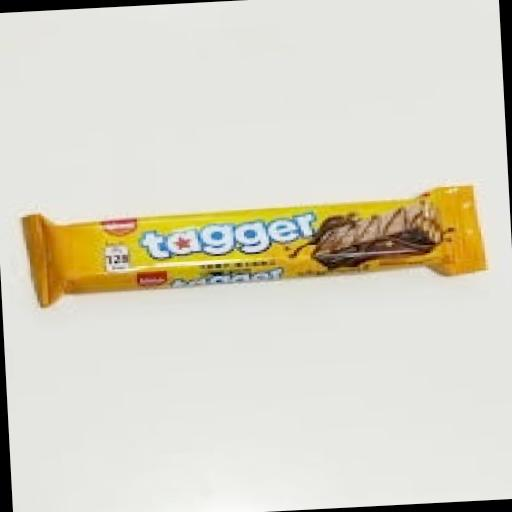tagger: (8, 151, 500, 352)
